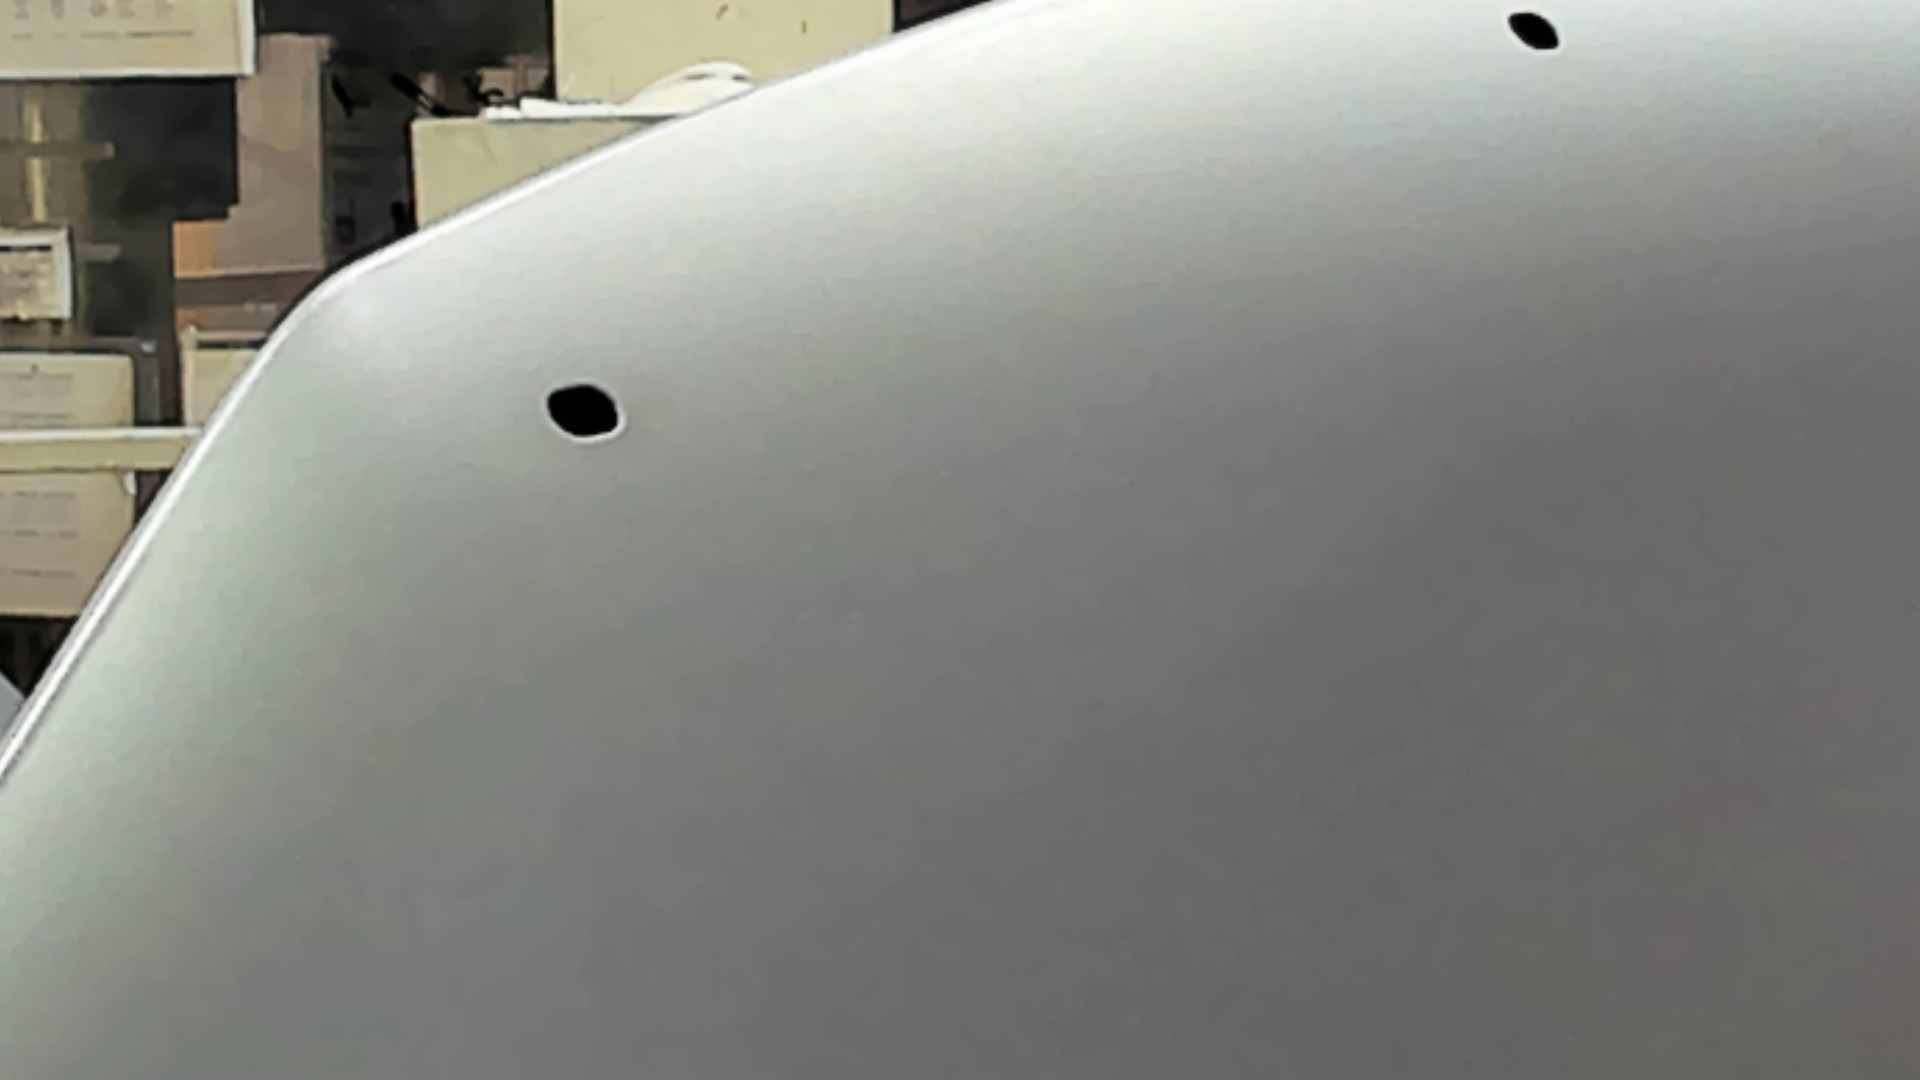amorfo: (539, 377, 630, 444), (1506, 7, 1567, 61)
